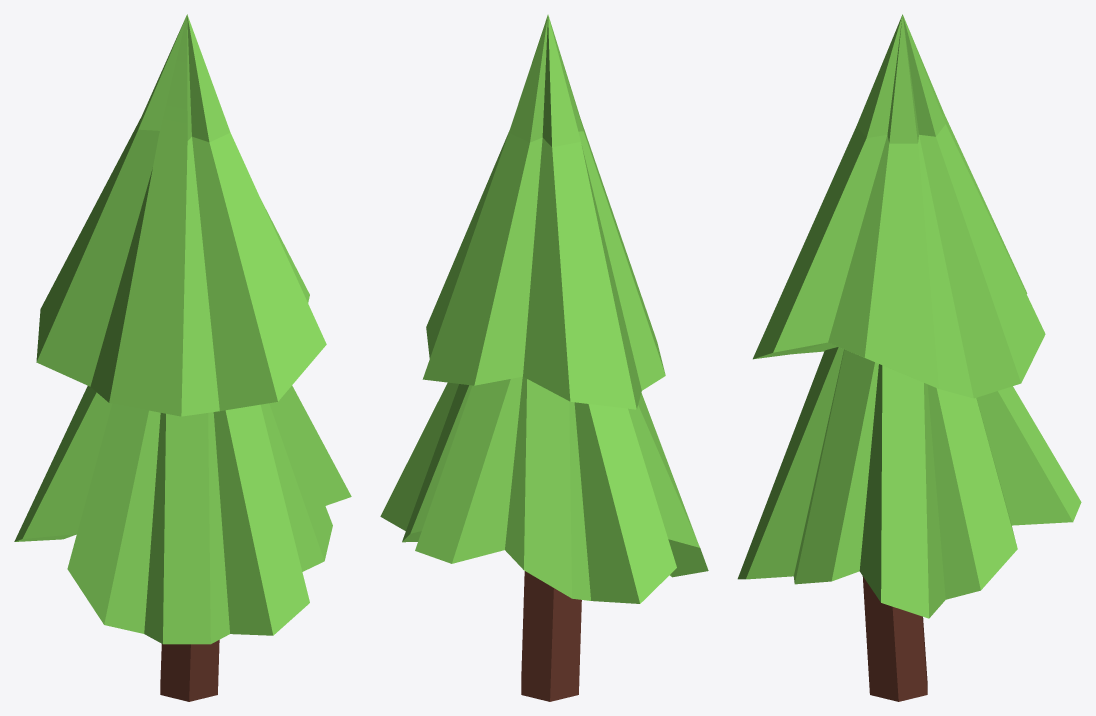
File: SM_PineTree_D.fbx
3 views of the same model, side by side, from view 1: azimuth 30°, elevation 25°; view 2: azimuth 150°, elevation 25°; view 3: azimuth 270°, elevation 25° (orthographic).
Visible parts, largest first — view 1: SM_PineTree_D; view 2: SM_PineTree_D; view 3: SM_PineTree_D.
Boxes of the visible parts, left/top/right/bottom form: SM_PineTree_D: left=14, top=14, right=351, bottom=701; SM_PineTree_D: left=380, top=14, right=708, bottom=701; SM_PineTree_D: left=737, top=14, right=1081, bottom=701.
Bounding box in the file's own units: 191 × 409 × 189.
